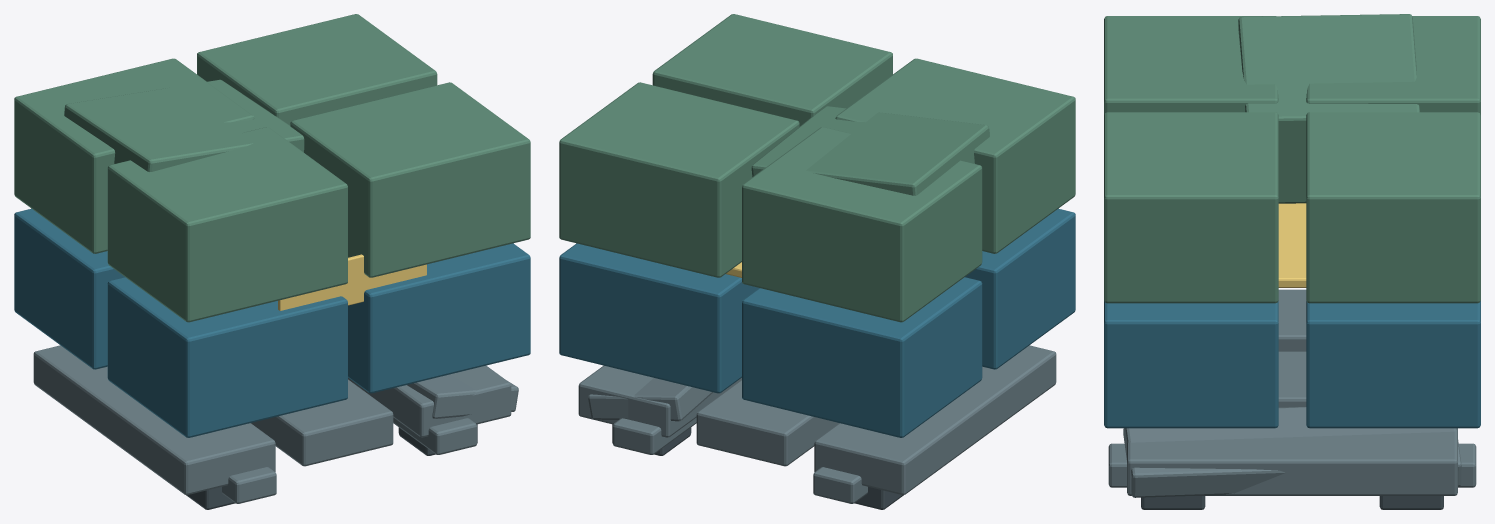
Rendered from pallet_stack_d1.glb.
3 views of the same model, side by side, from view 1: azimuth 30°, elevation 25°; view 2: azimuth 150°, elevation 25°; view 3: azimuth 270°, elevation 25° (orthographic). The views are drawn at different scales.
Parts seen in each view (by area): view 1: Stacked crate.012, Stacked crate.014, Stacked crate.008, Stacked crate.010, Stacked crate.013, Stacked crate.015, Pallet deck board.003, Shifted load, Stacked crate.009, Pallet deck board.004, Pallet deck board.005, Pallet label.001 (+4 smaller); view 2: Stacked crate.015, Stacked crate.013, Stacked crate.009, Stacked crate.011, Stacked crate.012, Stacked crate.014, Pallet deck board.003, Shifted load, Stacked crate.008, Pallet deck board.004, Pallet deck board.005, Bent deck board (+3 smaller); view 3: Stacked crate.014, Stacked crate.015, Stacked crate.010, Stacked crate.011, Shifted load, Pallet deck board.005, Stacked crate.012, Stacked crate.013, Bent deck board, Load wrap.001, Pallet deck board.003, Pallet deck board.004 (+3 smaller).
Part boxes in pixels (x1,y1,x2,y2): Stacked crate.012: [107, 127, 347, 322]; Stacked crate.014: [290, 82, 530, 277]; Stacked crate.008: [107, 277, 347, 437]; Stacked crate.010: [348, 243, 530, 393]; Stacked crate.013: [14, 58, 254, 253]; Stacked crate.015: [197, 14, 437, 125]; Pallet deck board.003: [33, 345, 275, 494]; Shifted load: [64, 79, 304, 172]; Stacked crate.009: [14, 208, 124, 369]; Pallet deck board.004: [251, 379, 393, 466]; Pallet deck board.005: [348, 365, 511, 437]; Pallet label.001: [278, 254, 426, 310]; Stacked crate.015: [559, 82, 799, 277]; Stacked crate.013: [742, 127, 982, 322]; Stacked crate.009: [742, 277, 982, 437]; Stacked crate.011: [559, 243, 758, 393]; Stacked crate.012: [835, 58, 1075, 253]; Stacked crate.014: [652, 14, 892, 126]; Pallet deck board.003: [814, 345, 1056, 494]; Shifted load: [751, 106, 989, 195]; Stacked crate.008: [965, 208, 1075, 369]; Pallet deck board.004: [696, 379, 838, 466]; Pallet deck board.005: [578, 365, 741, 437]; Bent deck board: [588, 378, 712, 421]; Stacked crate.014: [1104, 112, 1278, 303]; Stacked crate.015: [1306, 112, 1480, 303]; Stacked crate.010: [1104, 300, 1278, 428]; Stacked crate.011: [1306, 300, 1480, 428]; Shifted load: [1238, 14, 1419, 203]; Pallet deck board.005: [1127, 428, 1457, 495]; Stacked crate.012: [1104, 16, 1278, 114]; Stacked crate.013: [1306, 16, 1480, 114]; Bent deck board: [1123, 407, 1461, 497]; Load wrap.001: [1278, 203, 1306, 287]; Pallet deck board.003: [1278, 289, 1306, 351]; Pallet deck board.004: [1278, 351, 1306, 407].
Size of the model in its own units: 2.35 by 2.08 by 2.05.
